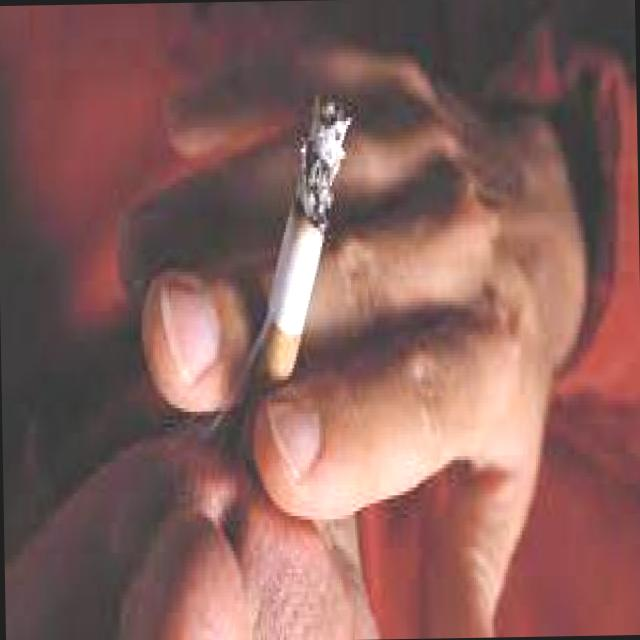smoke: (206, 86, 358, 475)
